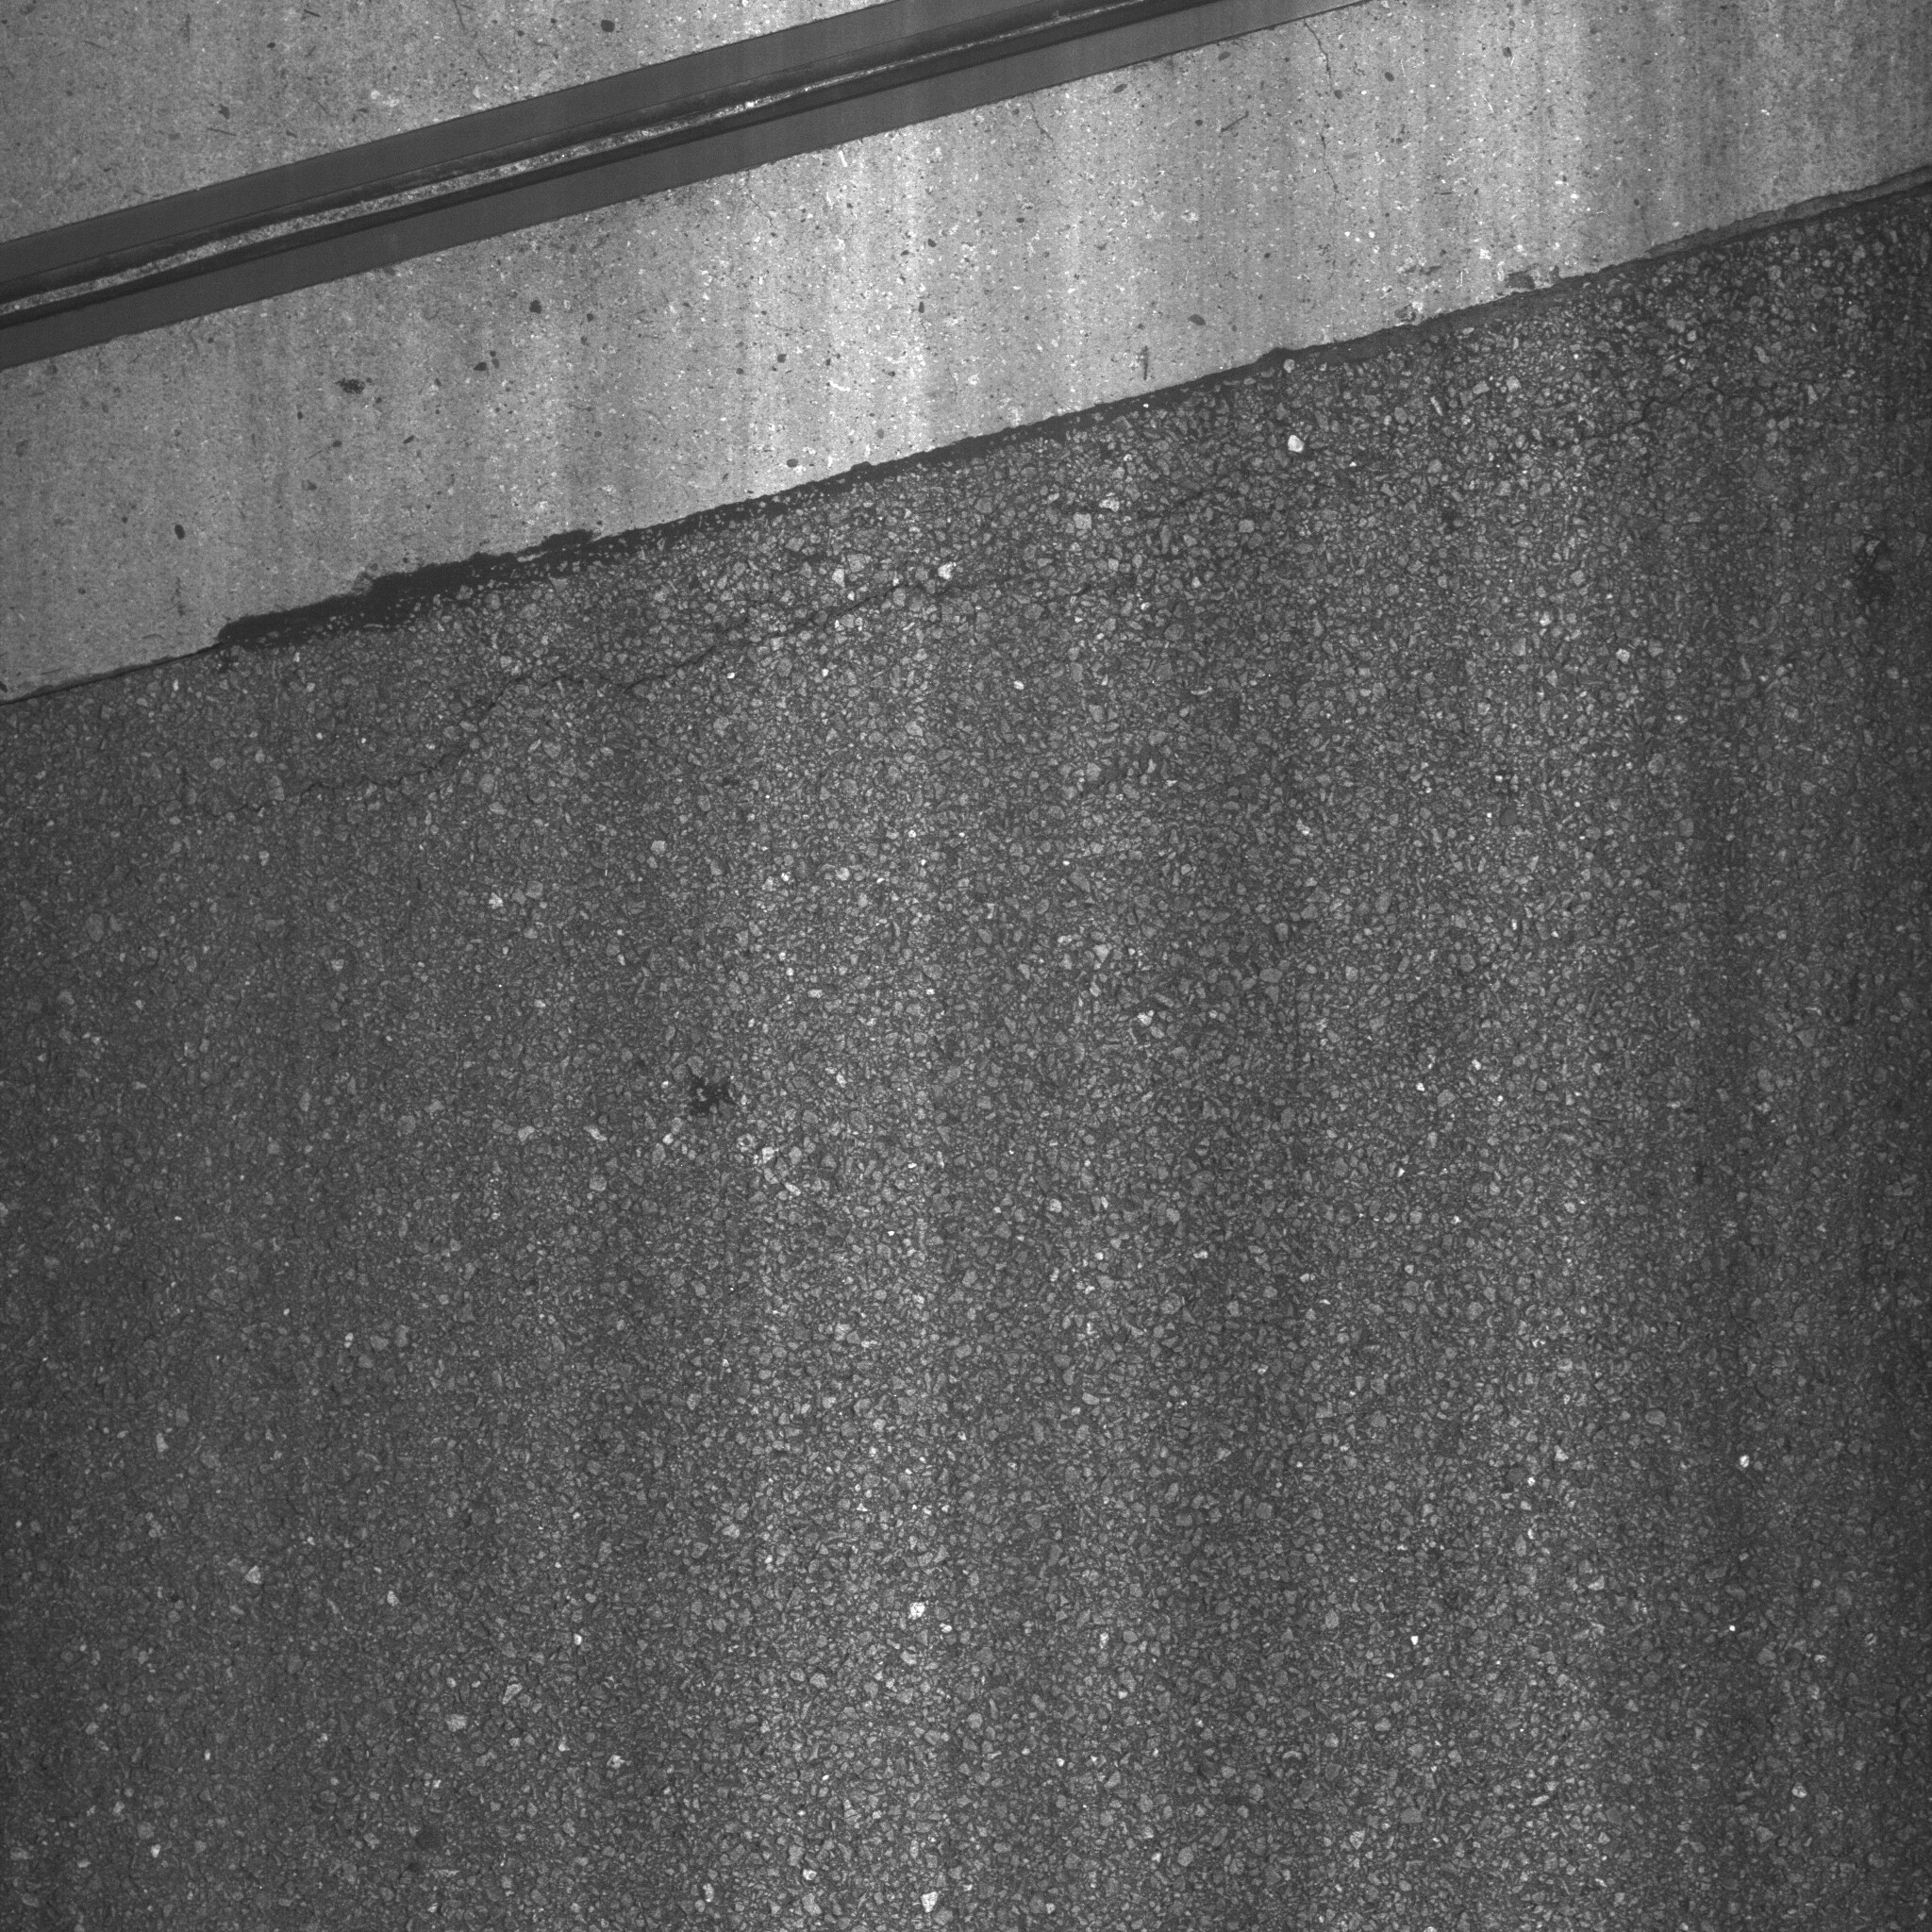transverse: (182, 368, 1806, 832)
